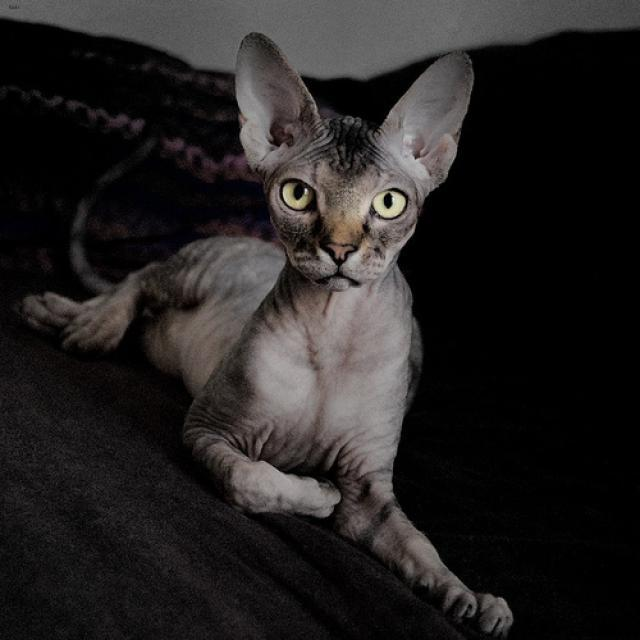Sphynx: (230, 28, 482, 296)
